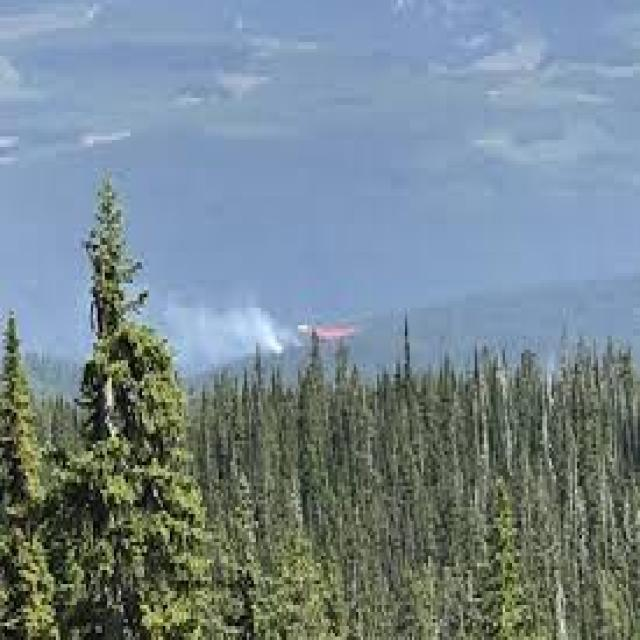Smoke: (185, 284, 291, 380)
